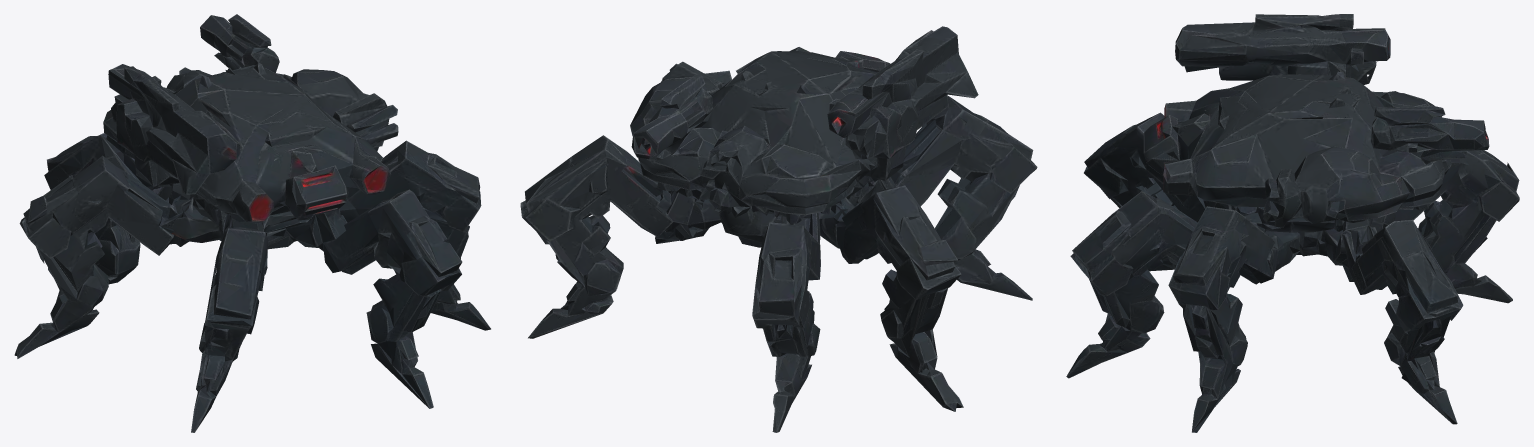
Rendered from assault_crab.glb.
3 views of the same model, side by side, from view 1: azimuth 30°, elevation 25°; view 2: azimuth 150°, elevation 25°; view 3: azimuth 270°, elevation 25° (orthographic). The views are drawn at different scales.
Parts seen in each view (by area): view 1: model; view 2: model; view 3: model.
Boxes of the visible parts, box(x1,y1,x2,y2) form: model: box(14, 14, 490, 432); model: box(520, 26, 1037, 432); model: box(1066, 14, 1519, 432).
Bounding box in the file's own units: 0.85 × 0.5758 × 0.8351.
Materials: 2 (1 with a texture image).
